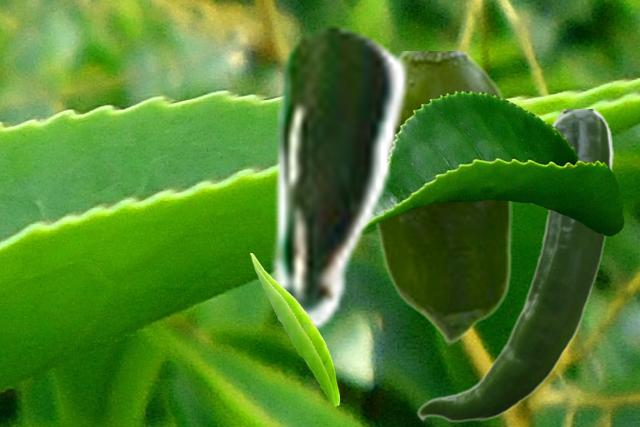green_chili: (416, 109, 613, 422), (262, 22, 409, 331), (371, 51, 511, 343)
